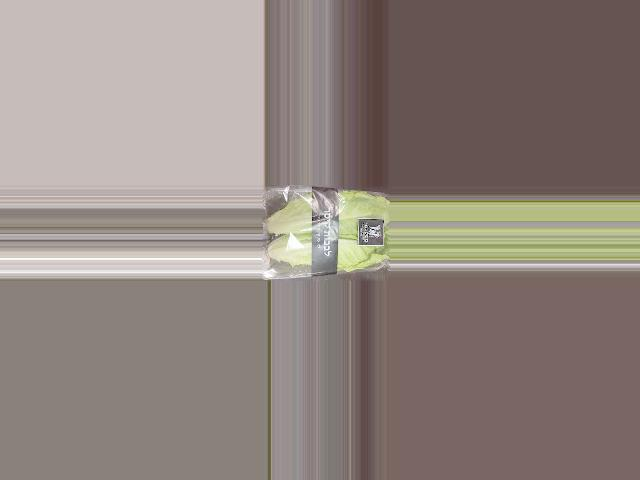lettuce: (261, 192, 388, 279)
